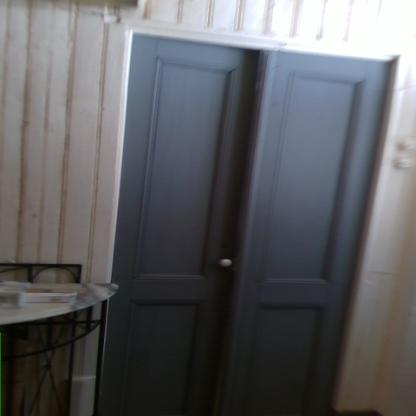closed: (100, 21, 410, 416)
